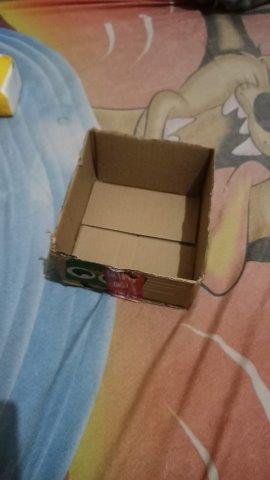kardus: (50, 128, 208, 303)
